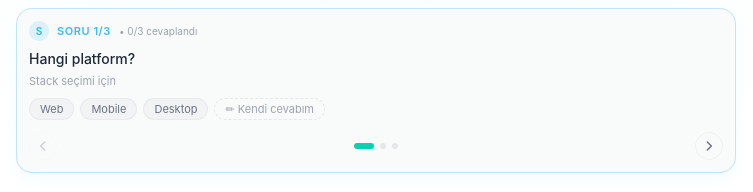
ClarificationCard › navigates to next question with arrow button
Step 1. Click the button named "Sonraki soru" → [709, 146], box [695,132,723,160]
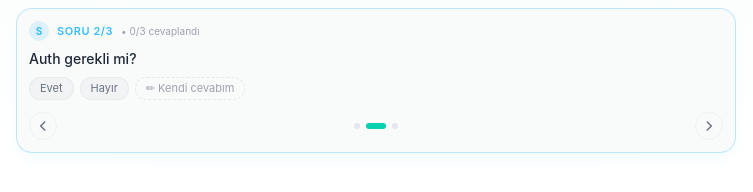
Now the text "Soru 2/3" is shown, box [57,23,113,39]
Now the text "Auth gerekli mi?" is shown, box [29,50,136,67]
